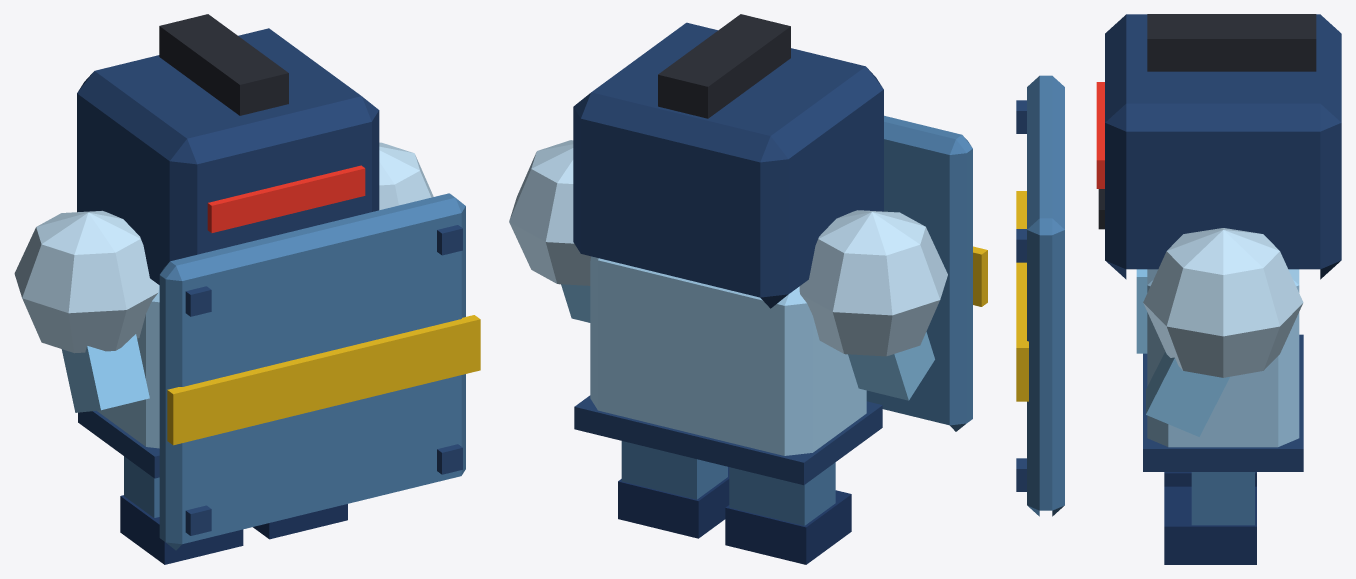
Rendered from brute_r2.glb.
3 views of the same model, side by side, from view 1: azimuth 30°, elevation 25°; view 2: azimuth 150°, elevation 25°; view 3: azimuth 270°, elevation 25° (orthographic). The views are drawn at different scales.
Parts seen in each view (by area): view 1: brute_r2_mesh; view 2: brute_r2_mesh; view 3: brute_r2_mesh.
Boxes of the visible parts, x1,y1,x2,y2 form: brute_r2_mesh: [14, 14, 480, 564]; brute_r2_mesh: [509, 14, 987, 564]; brute_r2_mesh: [1016, 14, 1341, 564].
Size of the model in its own units: 2.02 by 2.2 by 1.32.
1 material, 1 textured.
